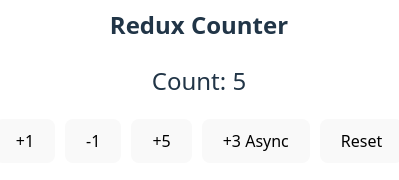
Test: Counter Component › decrements count when decrement button is clicked
Click the button with test id "decrement-btn" at (93,141), box [65,119,121,163]
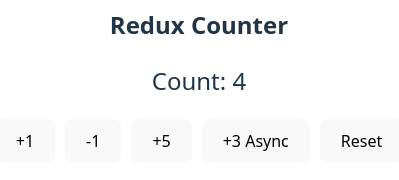
Expected: the text with test id "counter-value" reads "4", [232,64,246,97]
